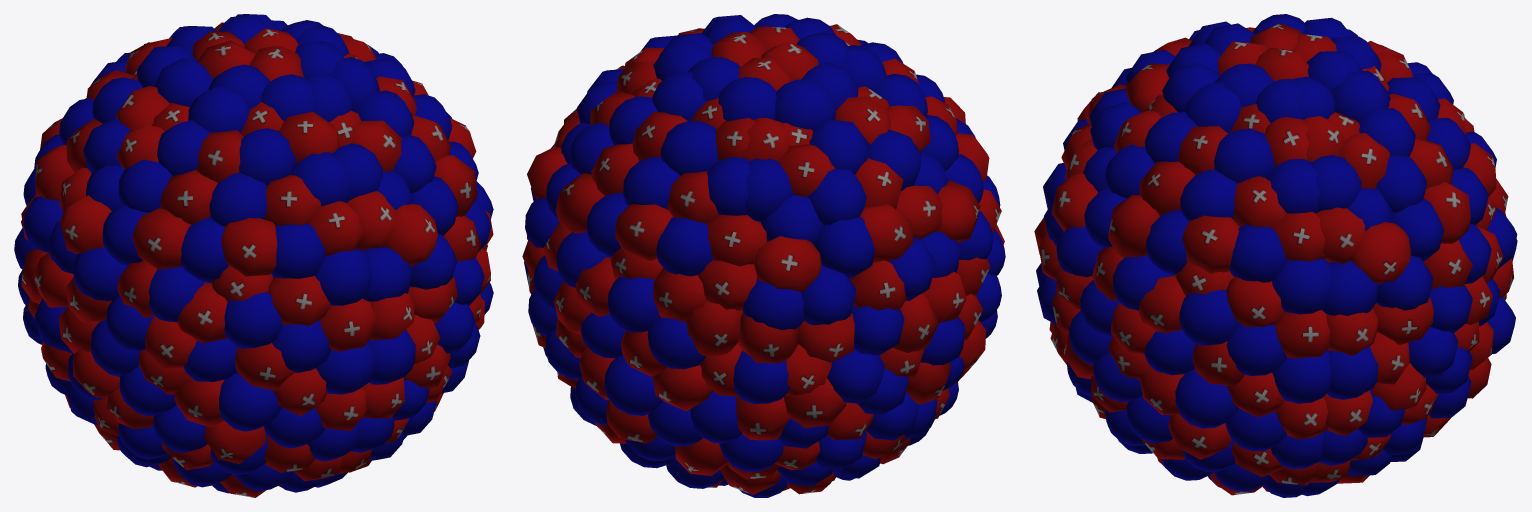
File: Gold_Nucleus.gltf
The picture shows the model from 3 angles, left to right: view 1: azimuth 30°, elevation 25°; view 2: azimuth 150°, elevation 25°; view 3: azimuth 270°, elevation 25°; orthographic projection.
Parts seen in each view (by area): view 1: Proton_07, Nutron_93, Proton_67, Nutron_98, Nutron_91, Nutron_117, Nutron_79, Nutron_89, Proton_11, Nutron_78, Proton_40, Proton_93 (+106 smaller); view 2: Proton_92, Nutron_64, Nutron_15, Nutron_17, Nutron_127, Proton_102, Nutron_61, Nutron_12, Nutron_63, Proton_120, Proton_129, Nutron_129 (+108 smaller); view 3: Nutron_99, Proton_119, Proton_32, Nutron_66, Nutron_06, Nutron_72, Nutron_39, Nutron_70, Nutron_50, Nutron_04, Proton_16, Proton_22 (+113 smaller).
Boxes of the visible parts, bbox=[...] form: Proton_07: bbox=[221, 218, 277, 276]; Nutron_93: bbox=[224, 292, 283, 348]; Proton_67: bbox=[132, 208, 191, 269]; Nutron_98: bbox=[219, 371, 281, 431]; Nutron_91: bbox=[239, 128, 295, 185]; Nutron_117: bbox=[314, 248, 371, 305]; Nutron_79: bbox=[271, 223, 325, 278]; Nutron_89: bbox=[209, 172, 267, 226]; Proton_11: bbox=[268, 275, 330, 326]; Nutron_78: bbox=[180, 217, 228, 282]; Proton_40: bbox=[386, 203, 437, 266]; Proton_93: bbox=[320, 298, 376, 351]; Proton_92: bbox=[753, 236, 821, 292]; Nutron_64: bbox=[815, 216, 874, 277]; Nutron_15: bbox=[656, 217, 712, 276]; Nutron_17: bbox=[660, 120, 718, 175]; Nutron_127: bbox=[774, 79, 835, 130]; Proton_102: bbox=[707, 214, 766, 266]; Nutron_61: bbox=[801, 265, 856, 325]; Nutron_12: bbox=[607, 277, 660, 332]; Nutron_63: bbox=[807, 168, 866, 225]; Proton_120: bbox=[615, 204, 672, 261]; Proton_129: bbox=[686, 301, 742, 357]; Nutron_129: bbox=[604, 355, 663, 415]; Nutron_99: bbox=[1272, 258, 1332, 314]; Proton_119: bbox=[1351, 222, 1411, 284]; Proton_32: bbox=[1182, 215, 1239, 273]; Nutron_66: bbox=[1179, 289, 1239, 345]; Nutron_06: bbox=[1229, 224, 1288, 282]; Nutron_72: bbox=[1175, 368, 1238, 428]; Nutron_39: bbox=[1214, 128, 1275, 183]; Nutron_70: bbox=[1226, 323, 1287, 376]; Nutron_50: bbox=[1272, 350, 1331, 403]; Nutron_04: bbox=[1180, 169, 1237, 220]; Proton_16: bbox=[1108, 194, 1159, 257]; Proton_22: bbox=[1226, 276, 1284, 327].
Bounding box in the file's own units: 35.19 × 35.2 × 35.15.
2 materials, 2 textured.
